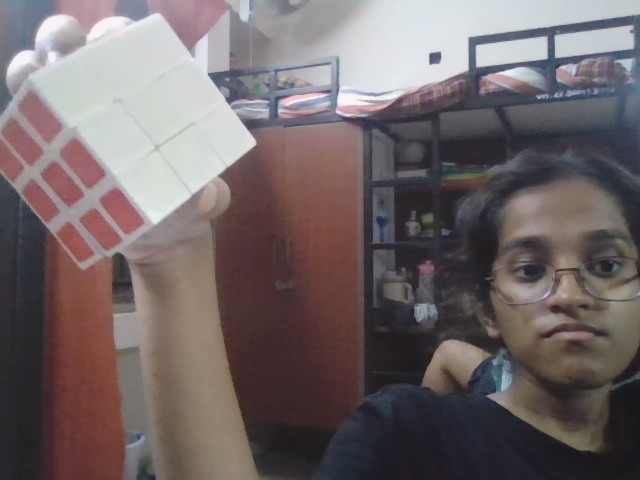rubiks_cube: (0, 15, 255, 224)
